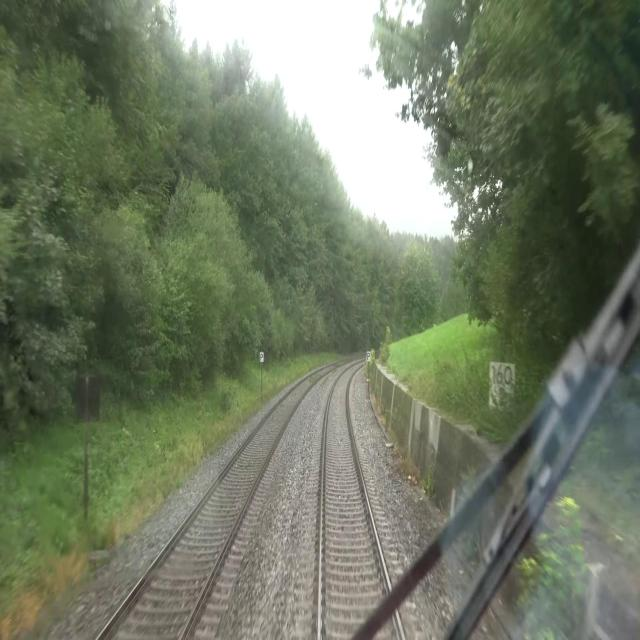rail-track: (100, 369, 325, 639), (321, 366, 384, 639)
